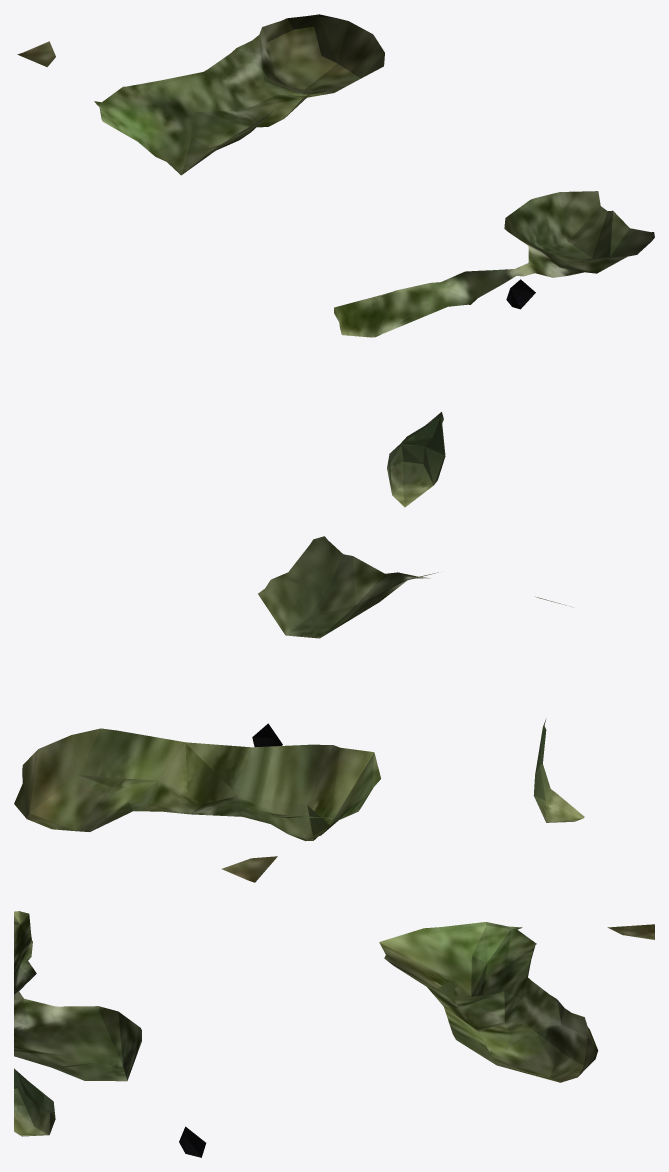
3 renders of one model, top to bottom at view 1: azimuth 30°, elevation 25°; view 2: azimuth 150°, elevation 25°; view 3: azimuth 270°, elevation 25°, orthographic. The views are drawn at different scales.
Bounding box in the file's own units: 1.56 × 0.968 × 2.95.
1 material, 1 textured.
